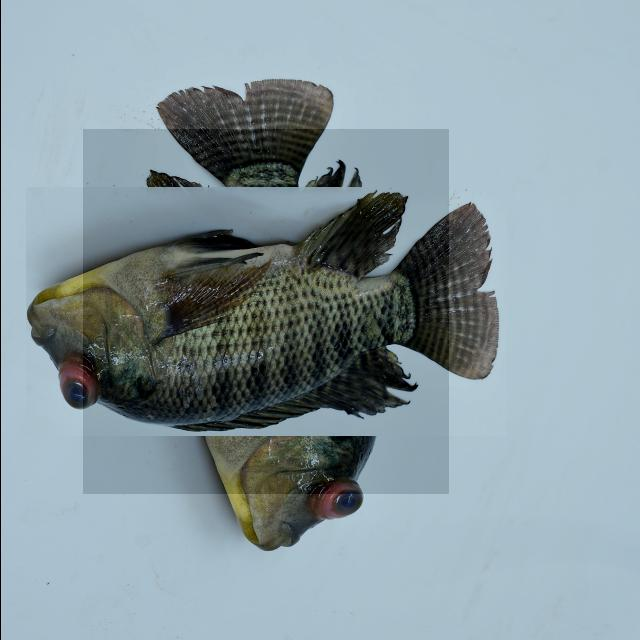streptococcus Disease: (82, 129, 448, 494)
